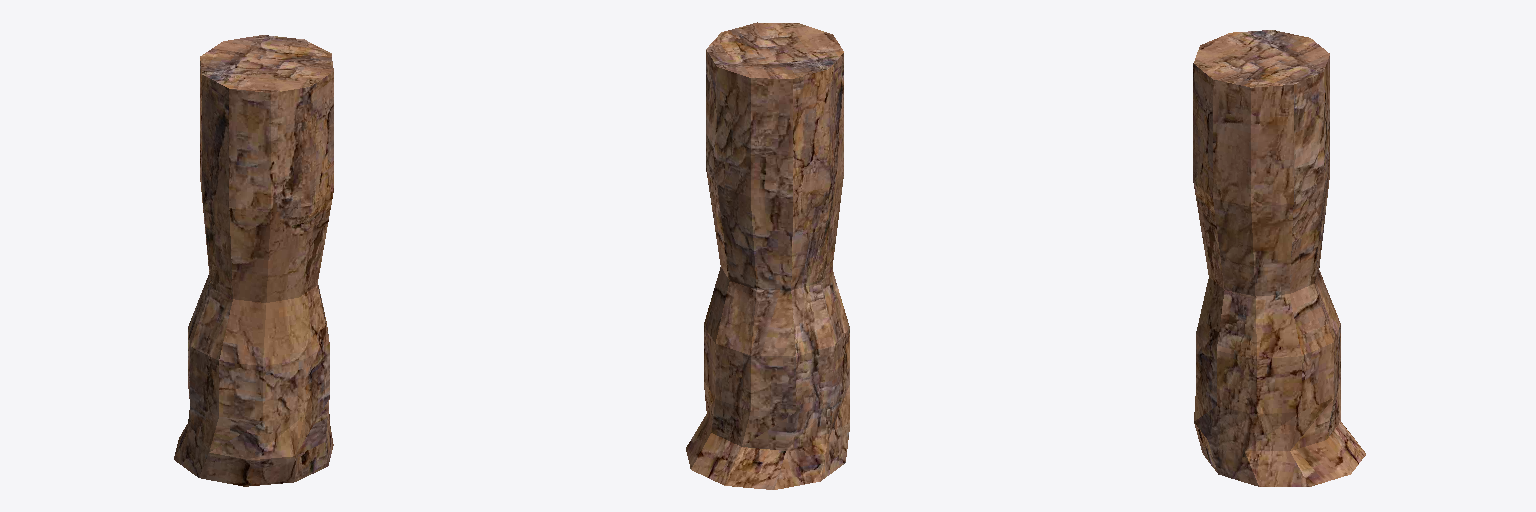
3 views of the same model, side by side, from view 1: azimuth 30°, elevation 25°; view 2: azimuth 150°, elevation 25°; view 3: azimuth 270°, elevation 25° (orthographic).
Parts seen in each view (by area): view 1: Circle_Circle.002; view 2: Circle_Circle.002; view 3: Circle_Circle.002.
Part boxes in pixels (bbox=[...]): Circle_Circle.002: bbox=[174, 35, 333, 486]; Circle_Circle.002: bbox=[686, 22, 849, 489]; Circle_Circle.002: bbox=[1193, 30, 1365, 486].
Bounding box in the file's own units: 1.9 × 5.34 × 2.11.
1 materials, 1 textured.